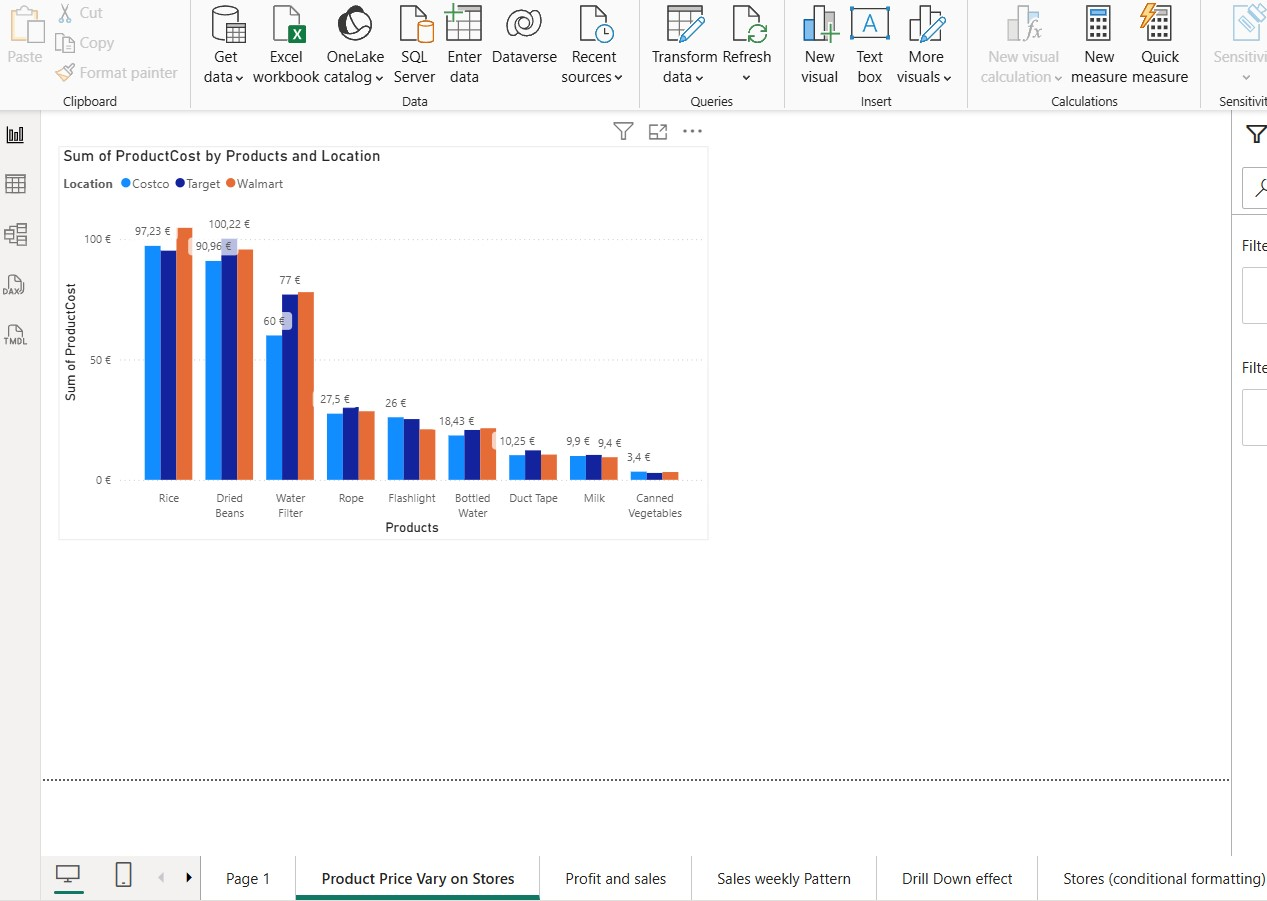

What the dashboard file says about the page in this screenshot:
{"tool":"powerbi","page":{"name":"Product Price Vary on Stores","canvas":[1280,720],"ordinal":0},"visuals":[{"type":"lineClusteredColumnComboChart","fields":{"Category":["Puchase Overview.Products"],"Series":["Puchase Overview.Location"],"Y":["Sum(Puchase Overview.ProductCost)"]},"box":[18.8,39,699.3,423.6],"z":0}]}

Visuals, with their boxes on the page's 1280x720 design canvas (x1, y1, x2, y2). These are canvas units, not pixel positions in the 1267x901 screenshot, which may show the page scaled, cropped or inside an application window:
lineClusteredColumnComboChart - Puchase Overview.Products x Puchase Overview.Location: BBox(19, 39, 718, 463)
